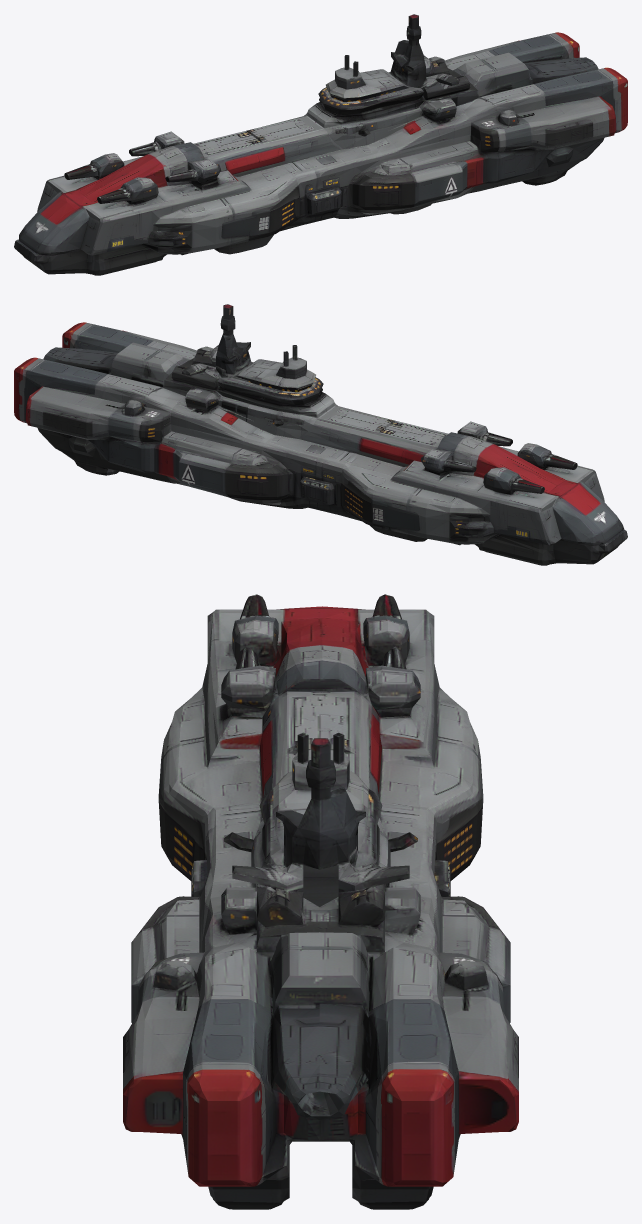
The model's file is Meshy_AI_Grey_Vanguard_Dreadno_0706101812_texture.glb.
The picture shows the model from 3 angles, top to bottom: view 1: azimuth 30°, elevation 25°; view 2: azimuth 150°, elevation 25°; view 3: azimuth 270°, elevation 25°; orthographic projection. The views are drawn at different scales.
Size of the model in its own units: 1.91 by 0.5636 by 0.5675.
1 material, 1 textured.
